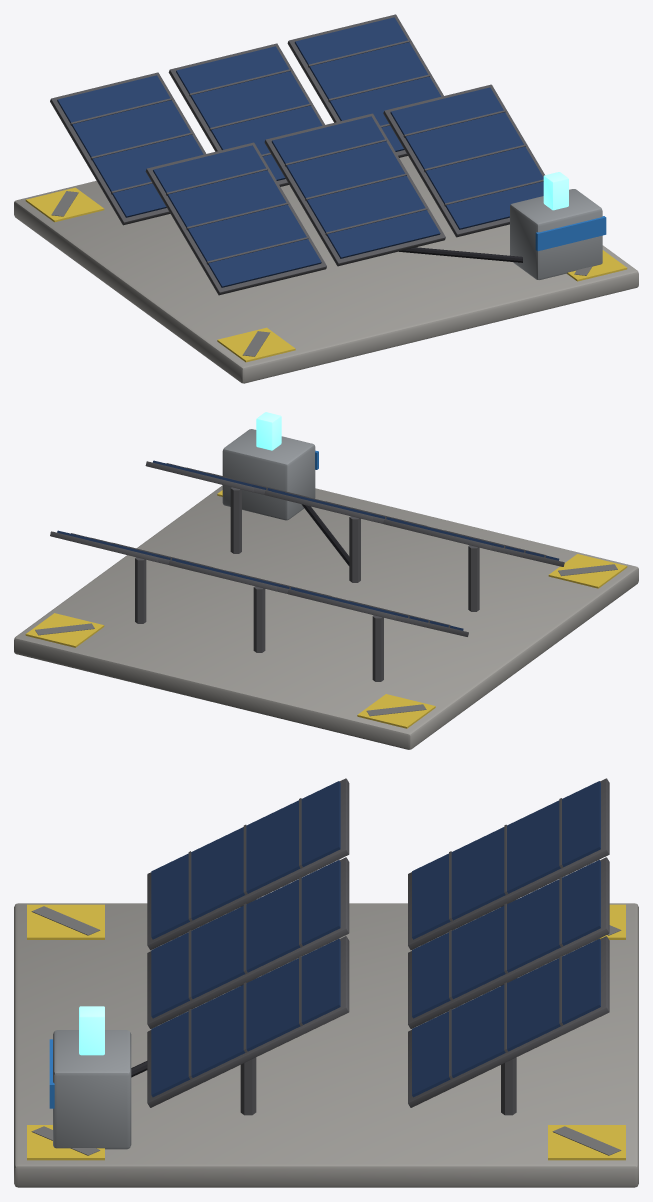
The model's file is bld_solar.glb.
3 views of the same model, one above another, from view 1: azimuth 30°, elevation 25°; view 2: azimuth 150°, elevation 25°; view 3: azimuth 270°, elevation 25° (orthographic). The views are drawn at different scales.
Visible parts, largest first — view 1: shell, foundation, structure, fittings; view 2: foundation, structure, shell, fittings; view 3: foundation, shell, structure, fittings.
Boxes of the visible parts, x1,y1,x2,y2 form: shell: (50, 14, 544, 295); foundation: (14, 156, 638, 383); structure: (510, 189, 602, 280); fittings: (399, 172, 606, 262); foundation: (14, 485, 638, 749); structure: (135, 429, 479, 681); shell: (50, 460, 564, 636); fittings: (256, 412, 349, 565); foundation: (14, 903, 638, 1187); shell: (147, 778, 609, 1107); structure: (53, 900, 516, 1149); fittings: (49, 1006, 147, 1108).
Bounding box in the file's own units: 7.2 × 2.09 × 7.2.
